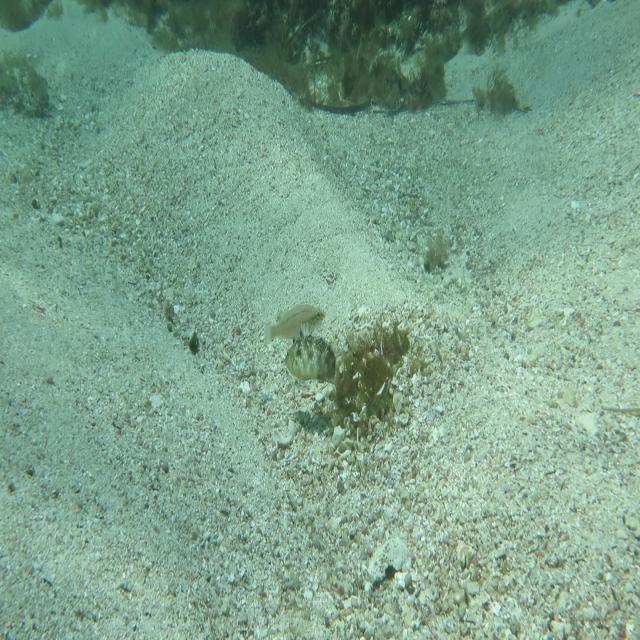BEND: (279, 318, 345, 392)
female: (263, 300, 328, 348)
nest: (318, 298, 412, 433)
vegetation: (244, 0, 512, 71), (417, 228, 451, 283)
